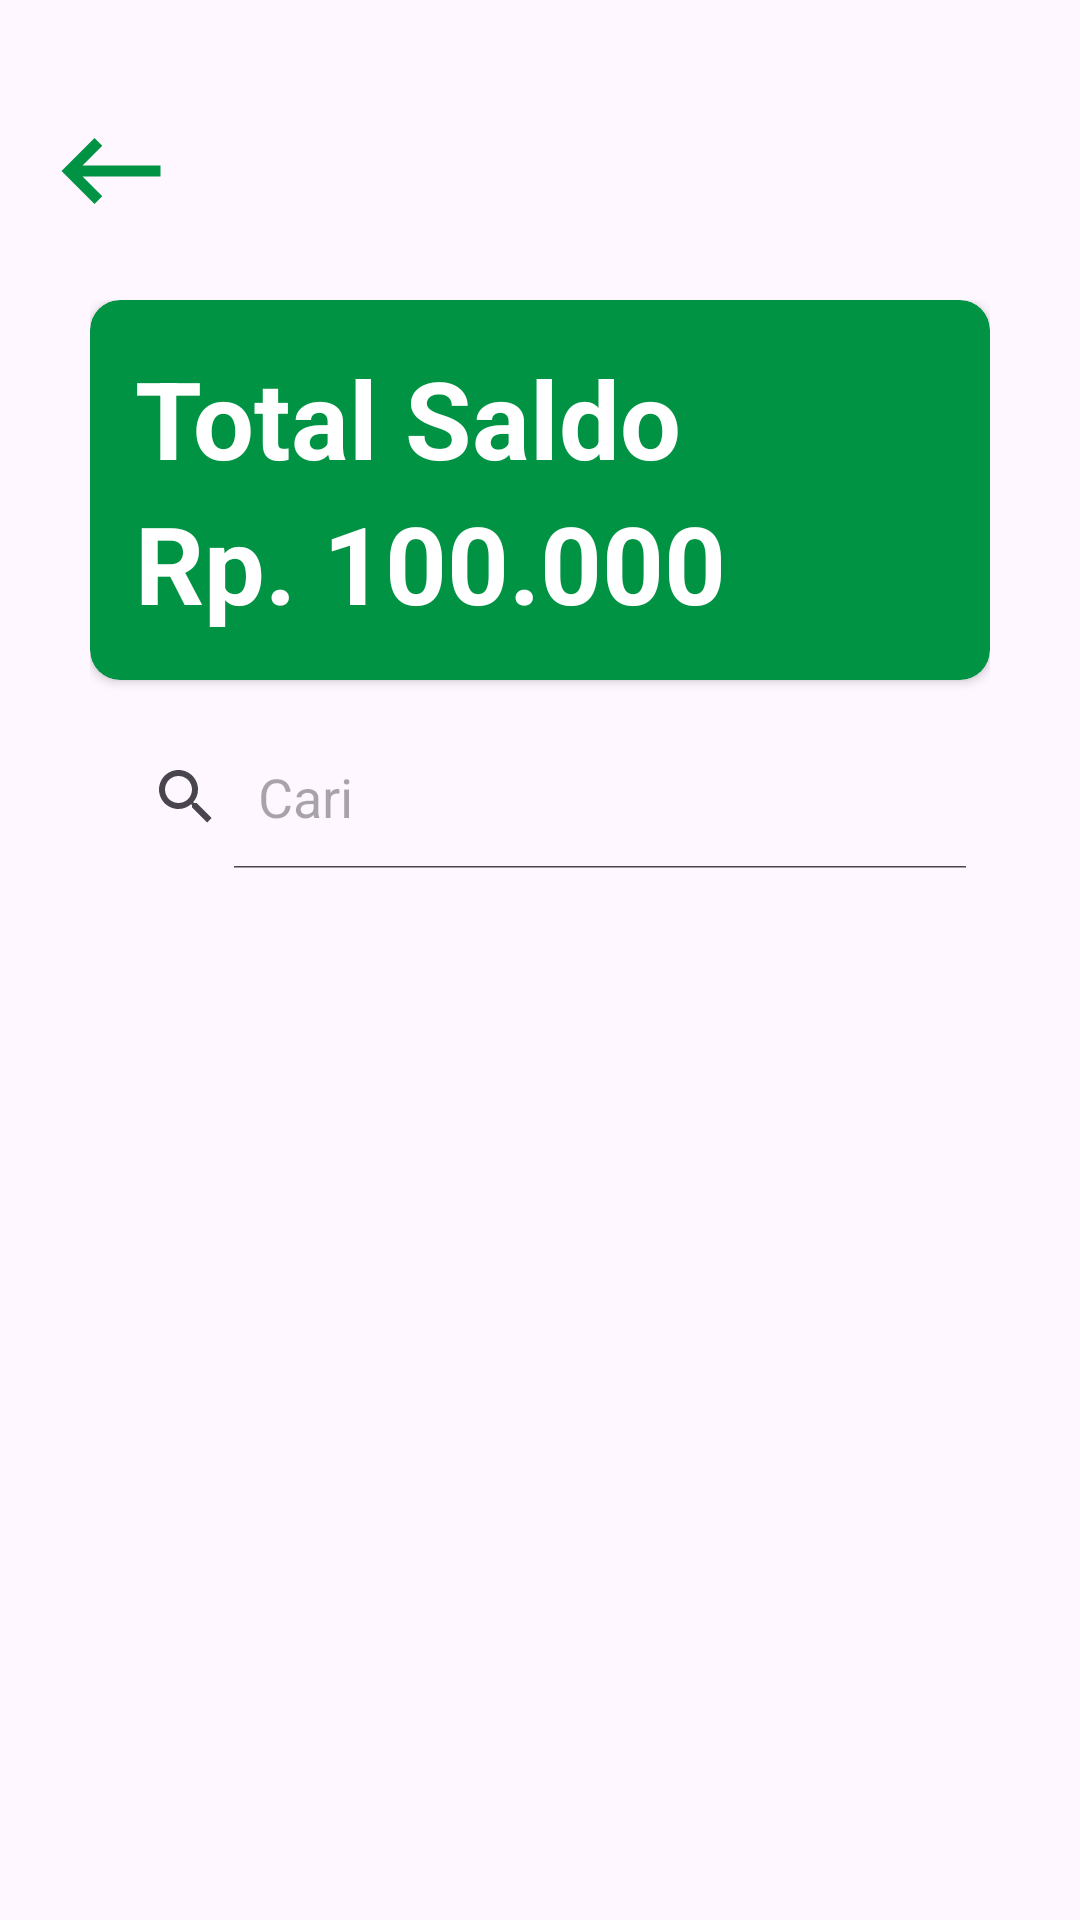

Icon click points for this 1080w x 1920h phone screenshot, format [x,y]:
keyboard backspace: [111,171]
